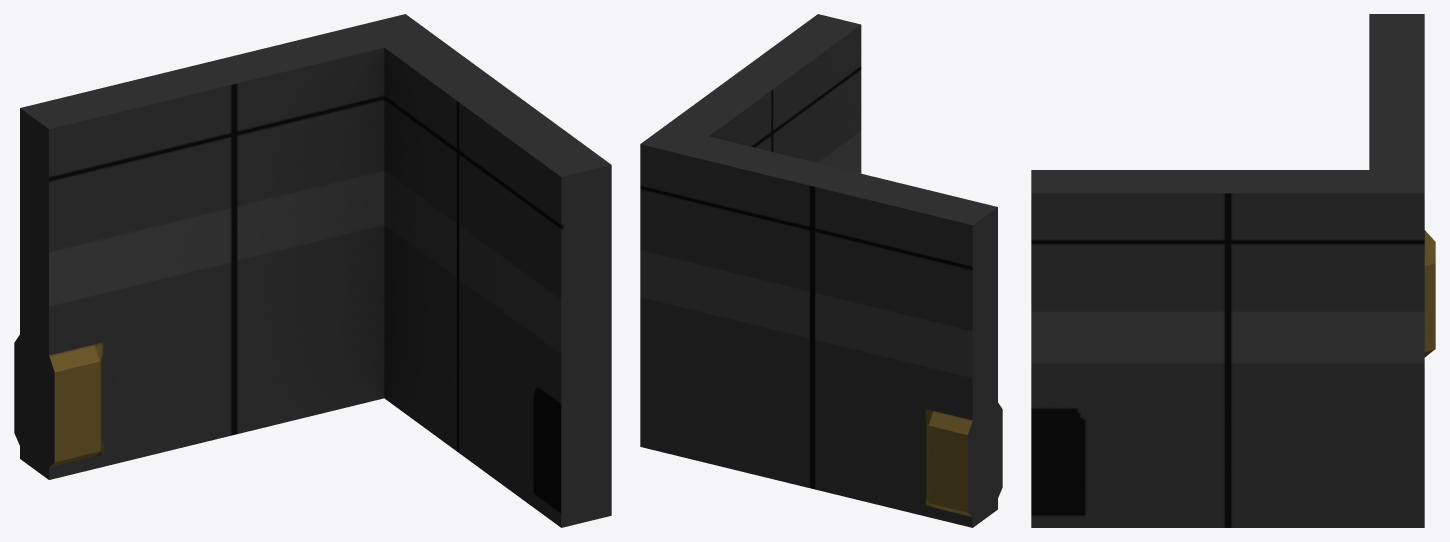
Rendered from Corner_05.fbx.
The picture shows the model from 3 angles, left to right: view 1: azimuth 30°, elevation 25°; view 2: azimuth 150°, elevation 25°; view 3: azimuth 270°, elevation 25°; orthographic projection. The views are drawn at different scales.
Visible parts, largest first — view 1: Corner_05 Low Poly; view 2: Corner_05 Low Poly; view 3: Corner_05 Low Poly.
Boxes of the visible parts, left/top/right/bottom form: Corner_05 Low Poly: left=14, top=14, right=611, bottom=527; Corner_05 Low Poly: left=640, top=14, right=1002, bottom=527; Corner_05 Low Poly: left=1031, top=14, right=1435, bottom=527.
Size of the model in its own units: 230 by 200 by 219.
Materials: 1 (1 with a texture image).
